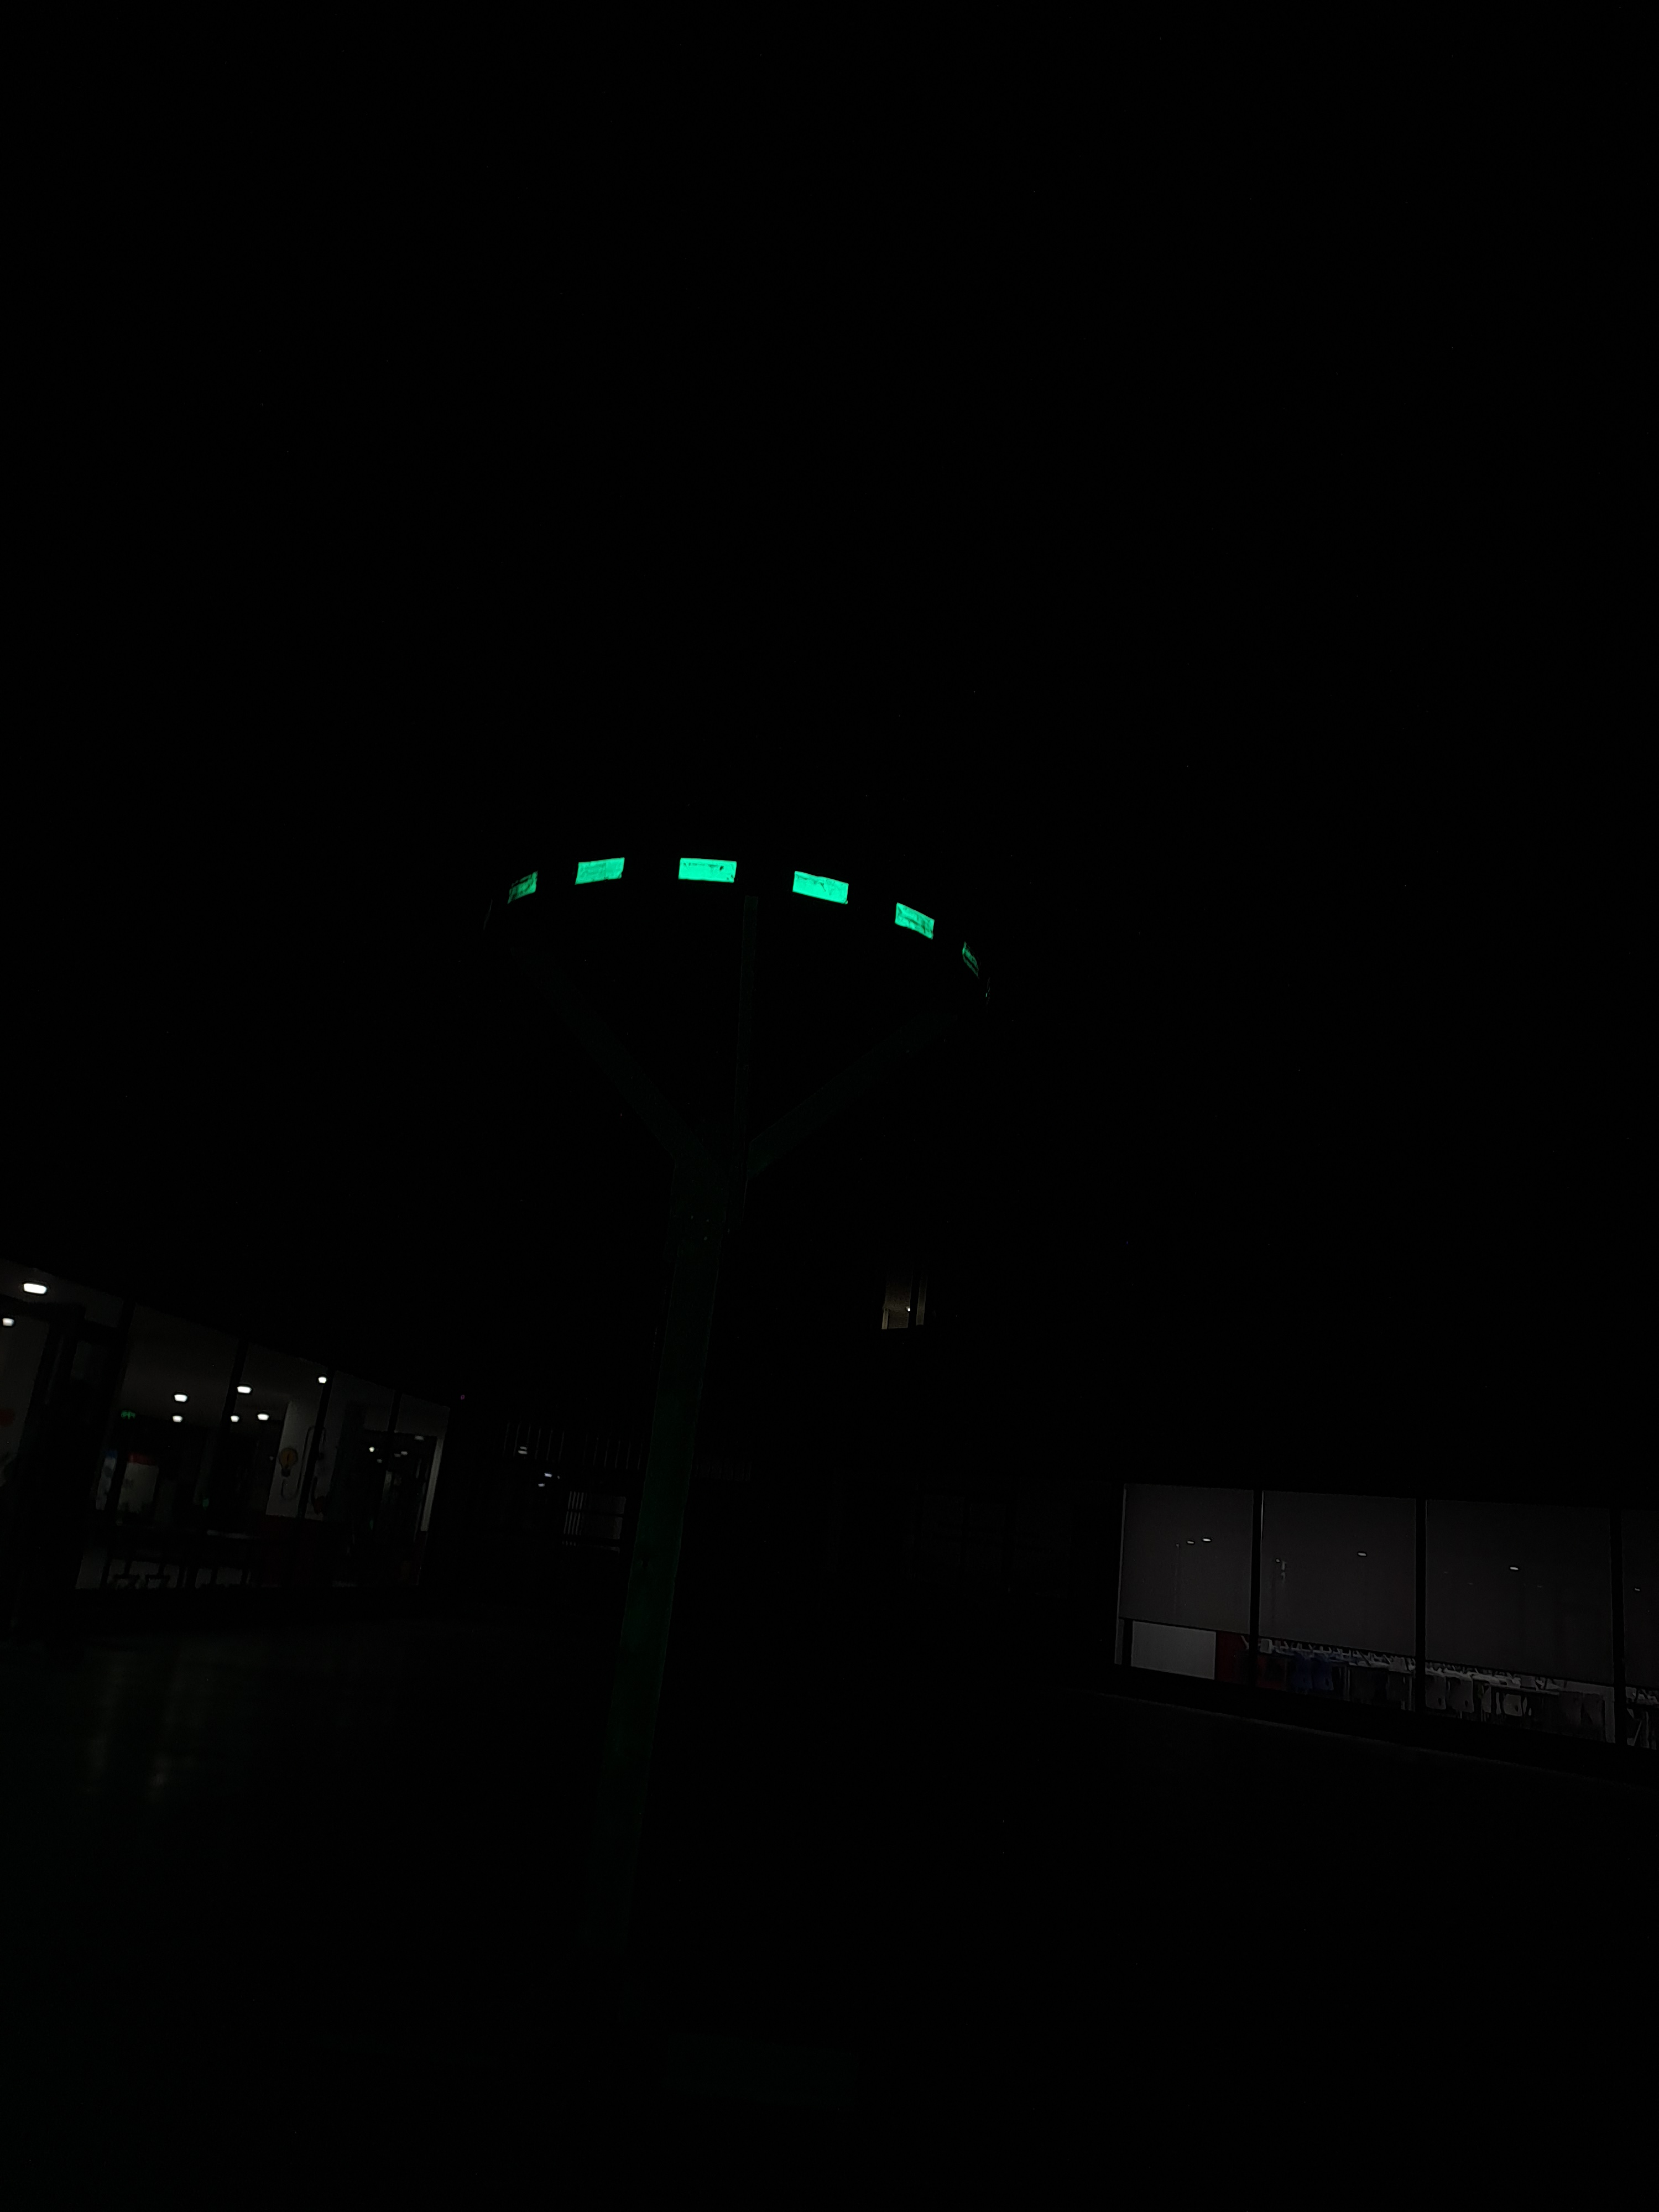hoop: (504, 841, 939, 949)
